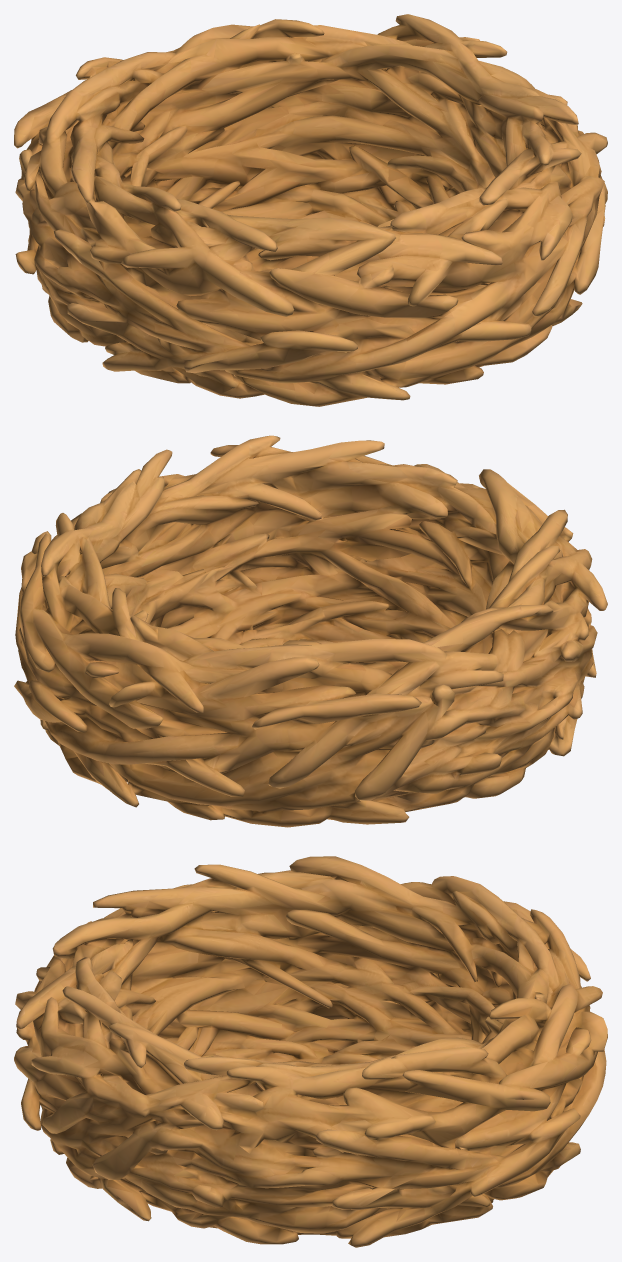
The model's file is 08_nest.glb.
3 renders of one model, top to bottom at view 1: azimuth 30°, elevation 25°; view 2: azimuth 150°, elevation 25°; view 3: azimuth 270°, elevation 25°, orthographic.
Visible parts, largest first — view 1: node_0; view 2: node_0; view 3: node_0.
Part boxes in pixels (box(x1,y1,x2,y2)): node_0: box(14, 14, 607, 406); node_0: box(14, 435, 607, 827); node_0: box(14, 856, 607, 1247).
Bounding box in the file's own units: 3.04 × 0.999 × 3.03.
Materials: 1 (1 with a texture image).
